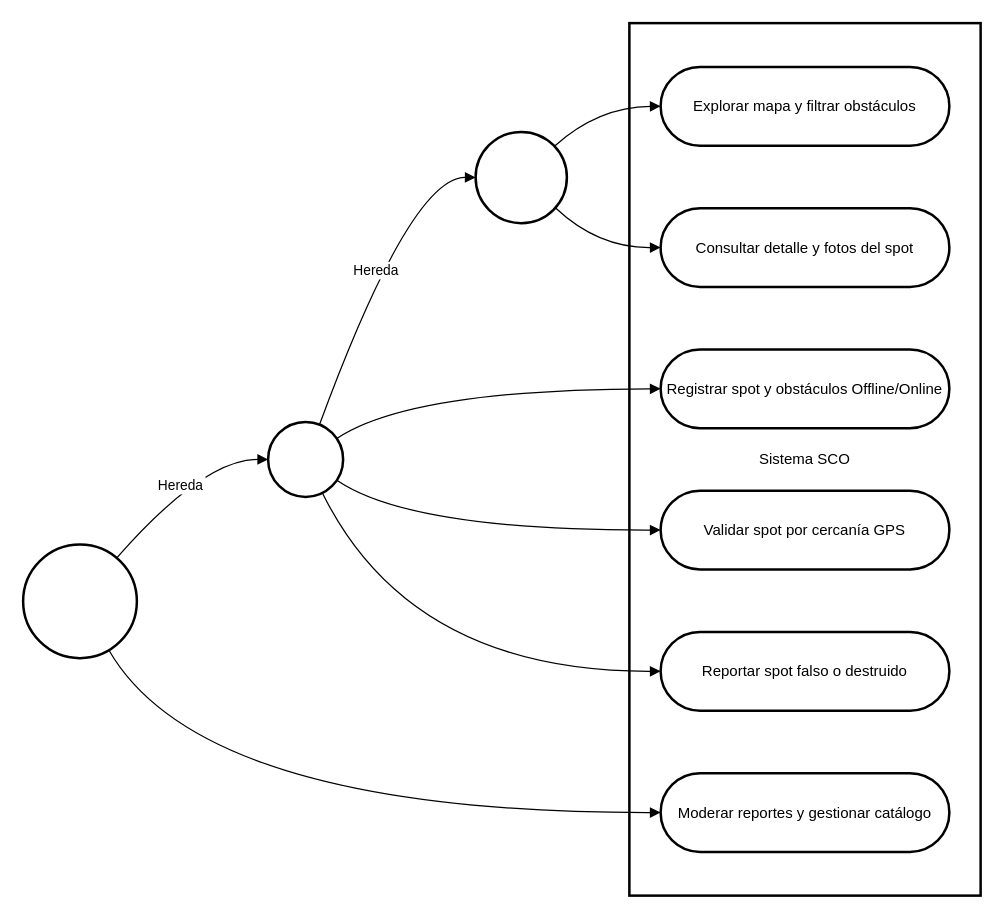
Image size: 1003x918. Some labels were removed from this diagram. The shapes that lost their labels are listed below. From the top down, each one's centre as x and y in pixels, then its label:
At point 521,177: "Usuario Invitado".
At point 305,459: "Skater USER".
At point 79,600: "Moderador ADMIN".
